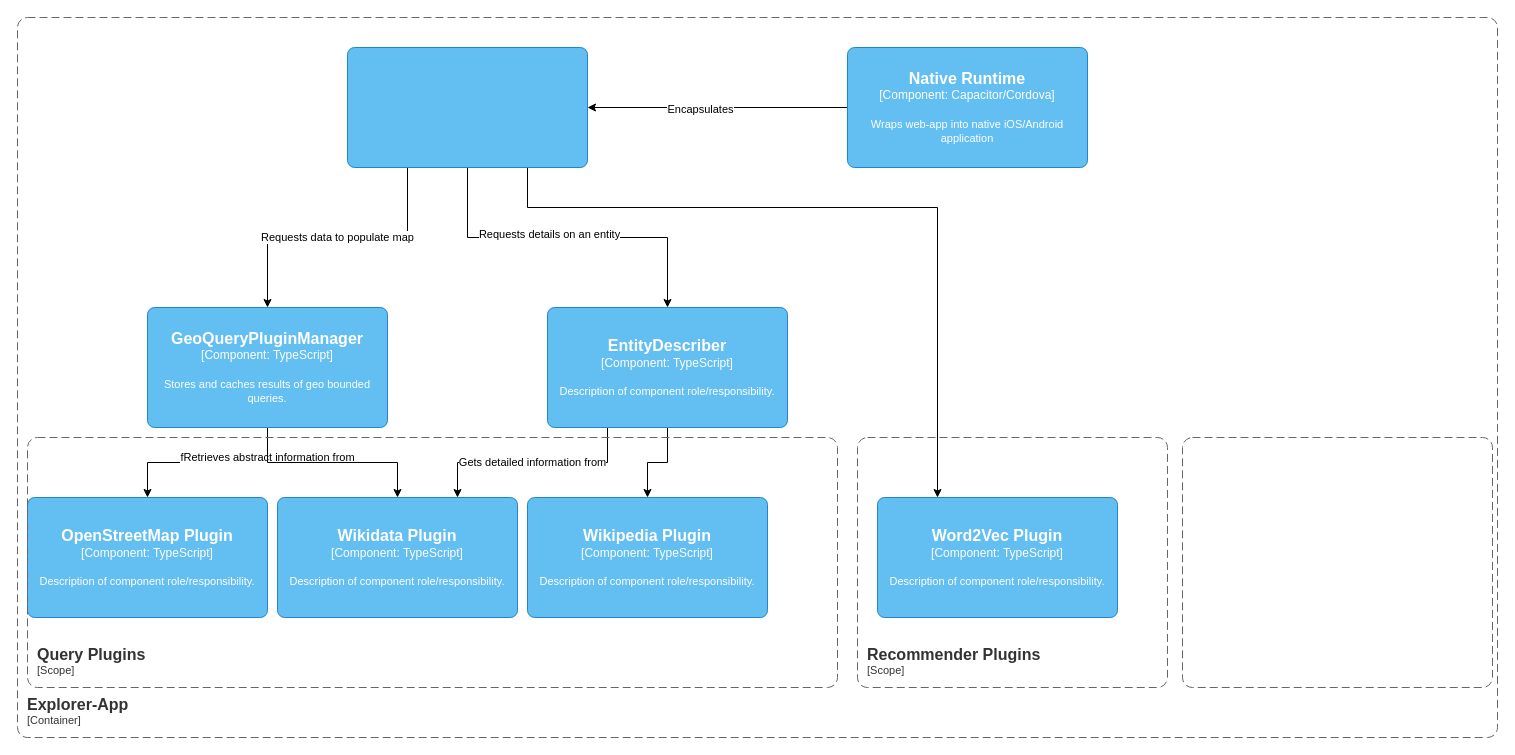
This 1515x755 diagram has some shape labels left out. Here are the shapes that lost their labels. From the top down, the centre of each, then its label:
point (467, 107): Single Page Application (SPA) [Component: Vue3]
point (1337, 562): Action Plugins [Scope]
